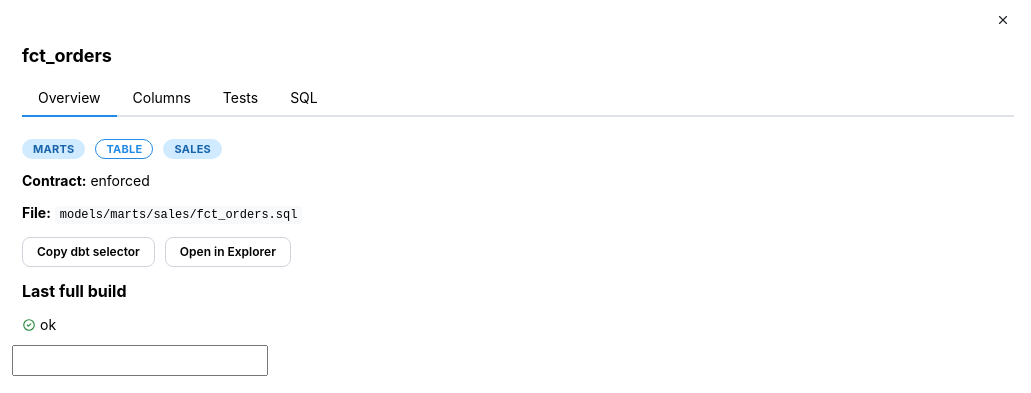
NodePanel › the Columns tab shows the column lineage note above the table
Click the tab "Columns" at {"x": 162, "y": 99}, box [117,81,207,117]
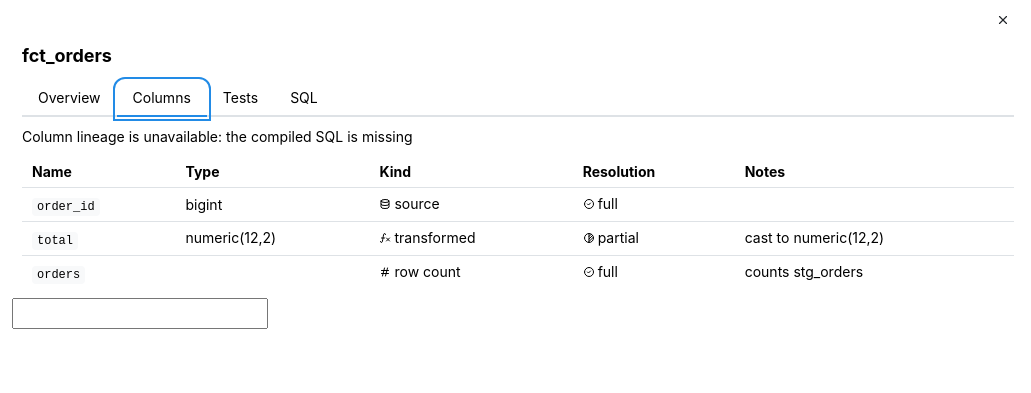
Now the text "Column lineage is unavailable: the compiled SQL is missing" is shown, box [22,128,413,145]
